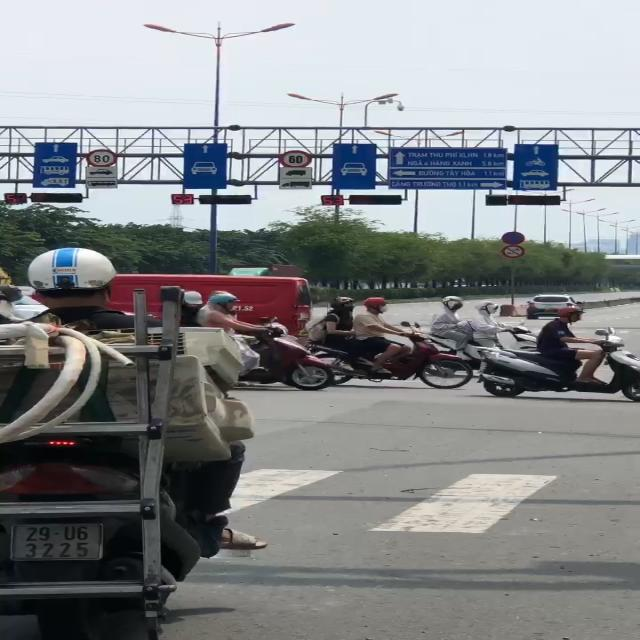Bien bao toc do toi da cho phep: (280, 148, 320, 170), (84, 148, 120, 167)
